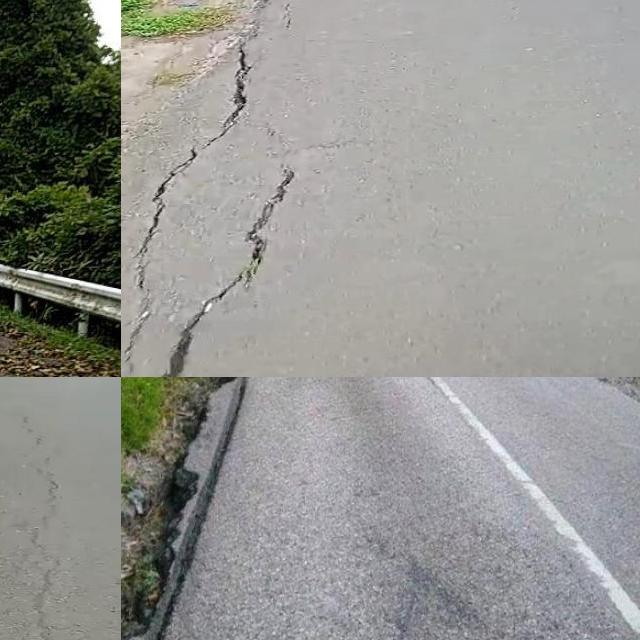Memanjang: (121, 39, 282, 377), (145, 149, 333, 377)
Pinggir: (121, 377, 264, 640), (121, 0, 286, 121)
